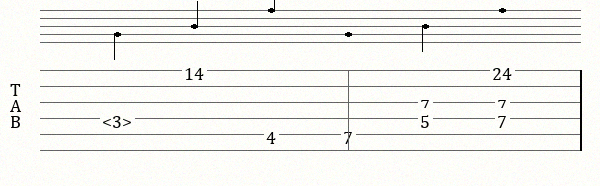14: (184, 62, 208, 78)
24: (492, 62, 516, 78)
4: (266, 126, 280, 142)
5: (420, 110, 434, 127)
7: (343, 126, 357, 143), (420, 94, 434, 111), (497, 94, 511, 111), (497, 110, 511, 127)
harmonic: (102, 110, 136, 126)
